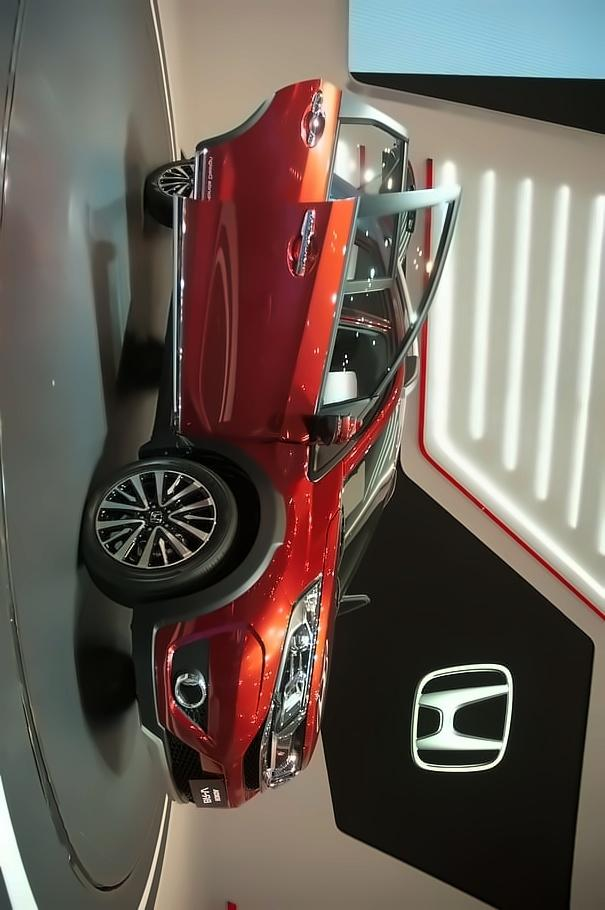Car hood: (306, 479, 346, 780)
Driver-s door - -F-R-: (173, 167, 464, 445)
Fender - -F-R-: (122, 426, 331, 613)
Front bumper: (126, 583, 289, 810)
Headlight - -R-: (271, 574, 324, 713)
Passenger-s door - -R-R-: (163, 64, 420, 204)
Side mirror - -R-: (302, 410, 366, 452)
